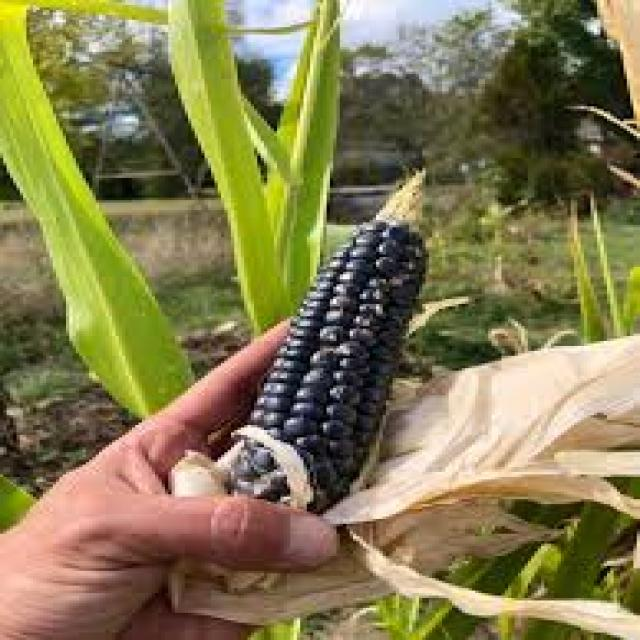discolored corn: (224, 178, 479, 532)
